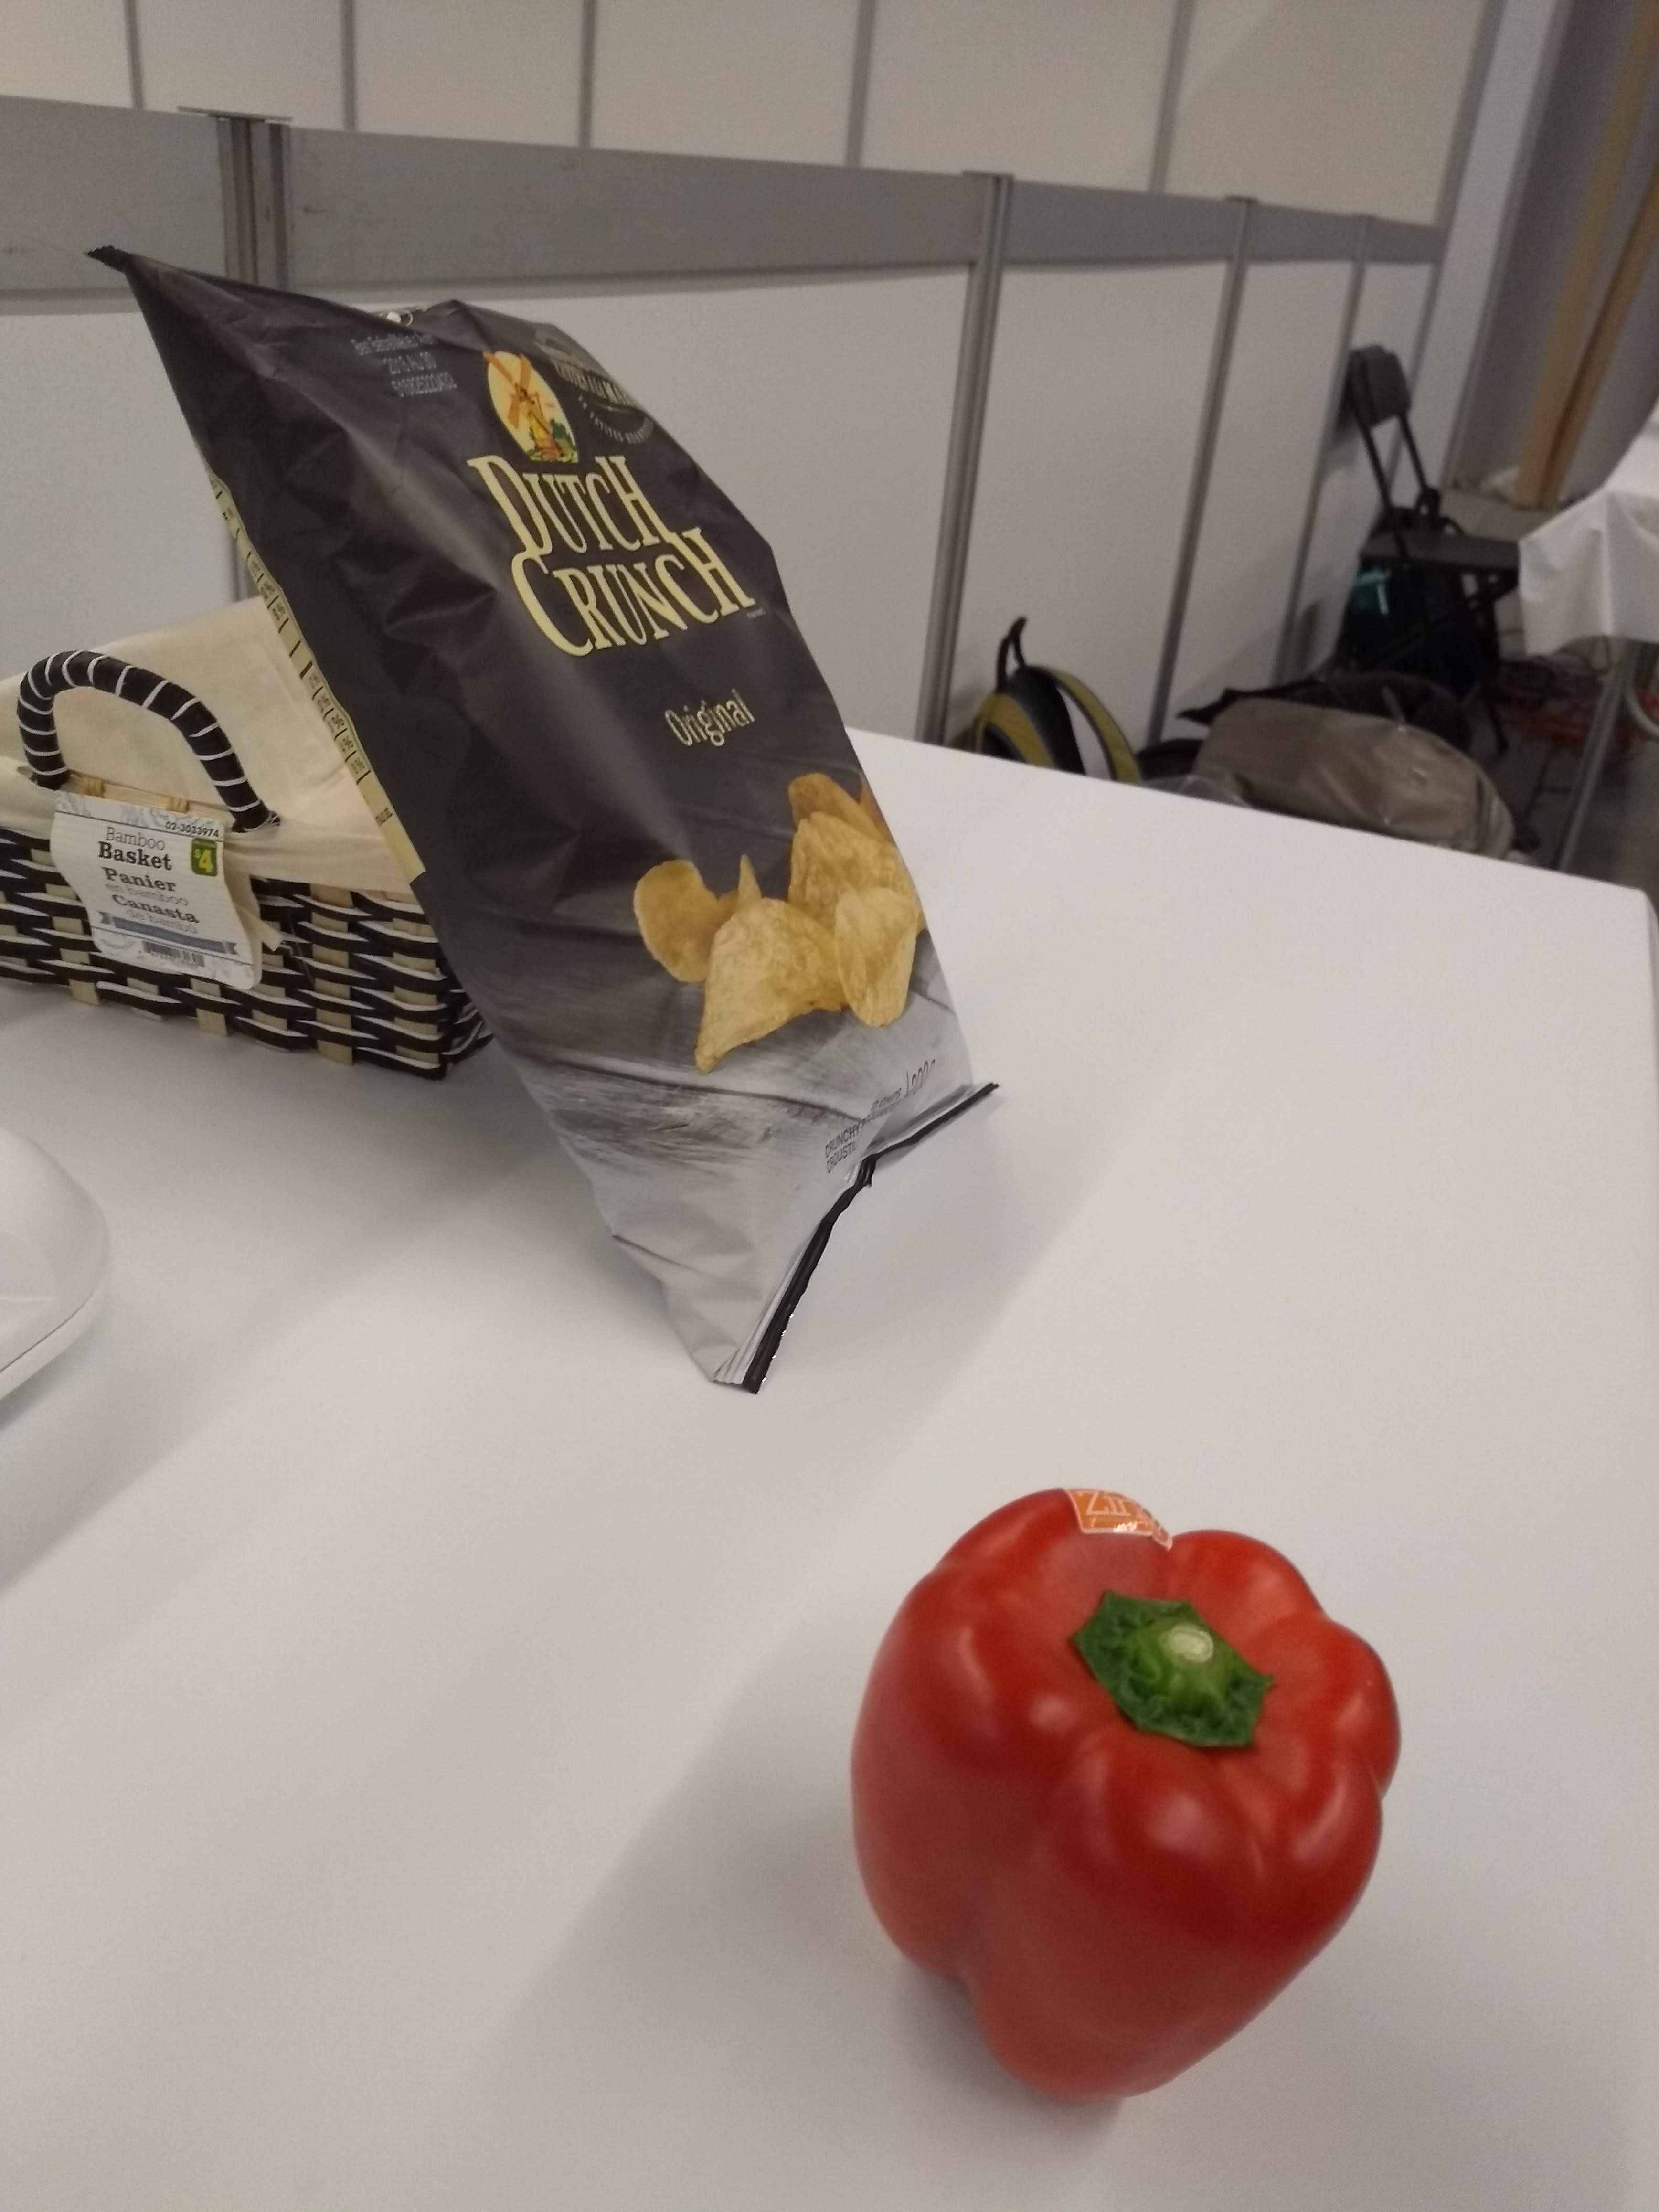paprika: (831, 1475, 1413, 2116)
potato_chips: (70, 228, 1021, 1404)
